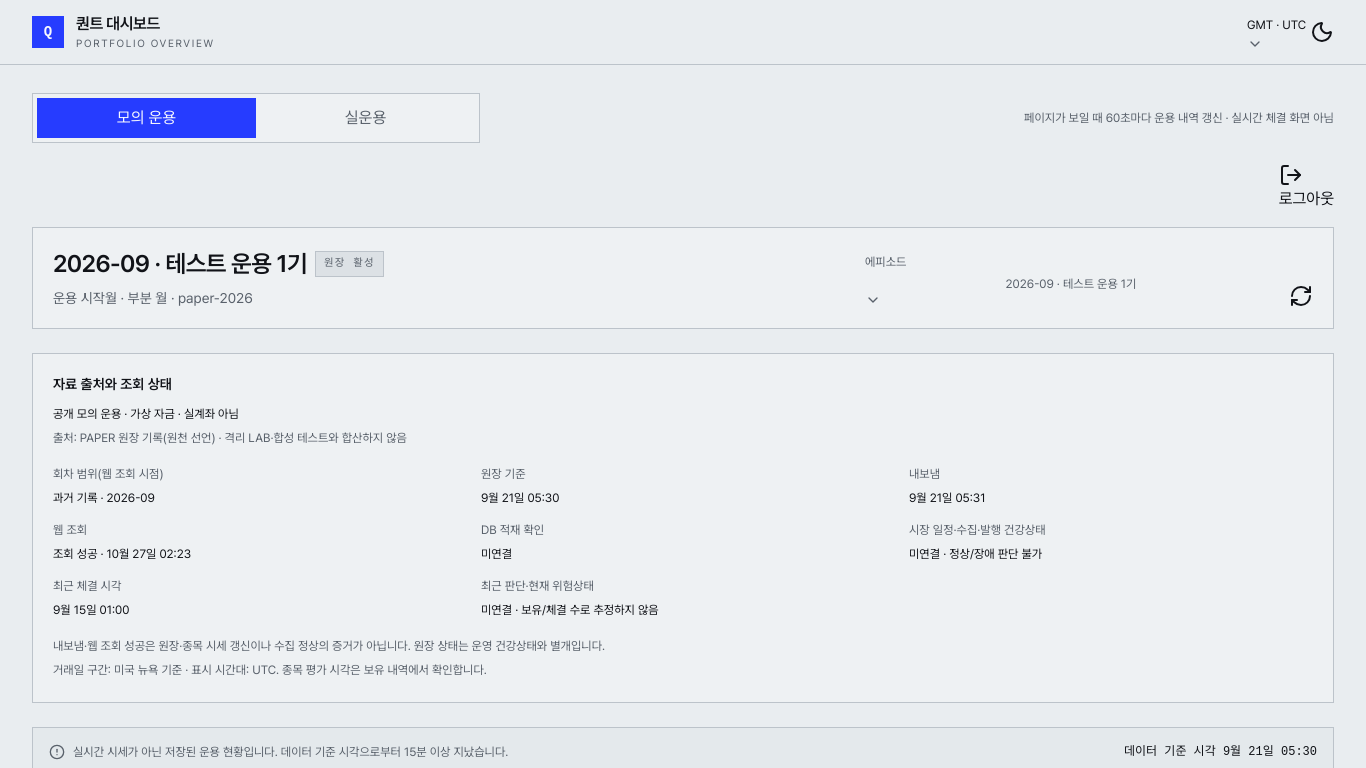
Test case: Quant dashboard app › preserves safe schema errors and mode-specific retry after a previous success
This screenshot has width=1366, height=768.
expect the heading "2026-09 · 테스트 운용 1기" is shown: met, box [53,248,307,280]
Click the tab "실운용".
click(366, 118)  # box [256,98,475,138]
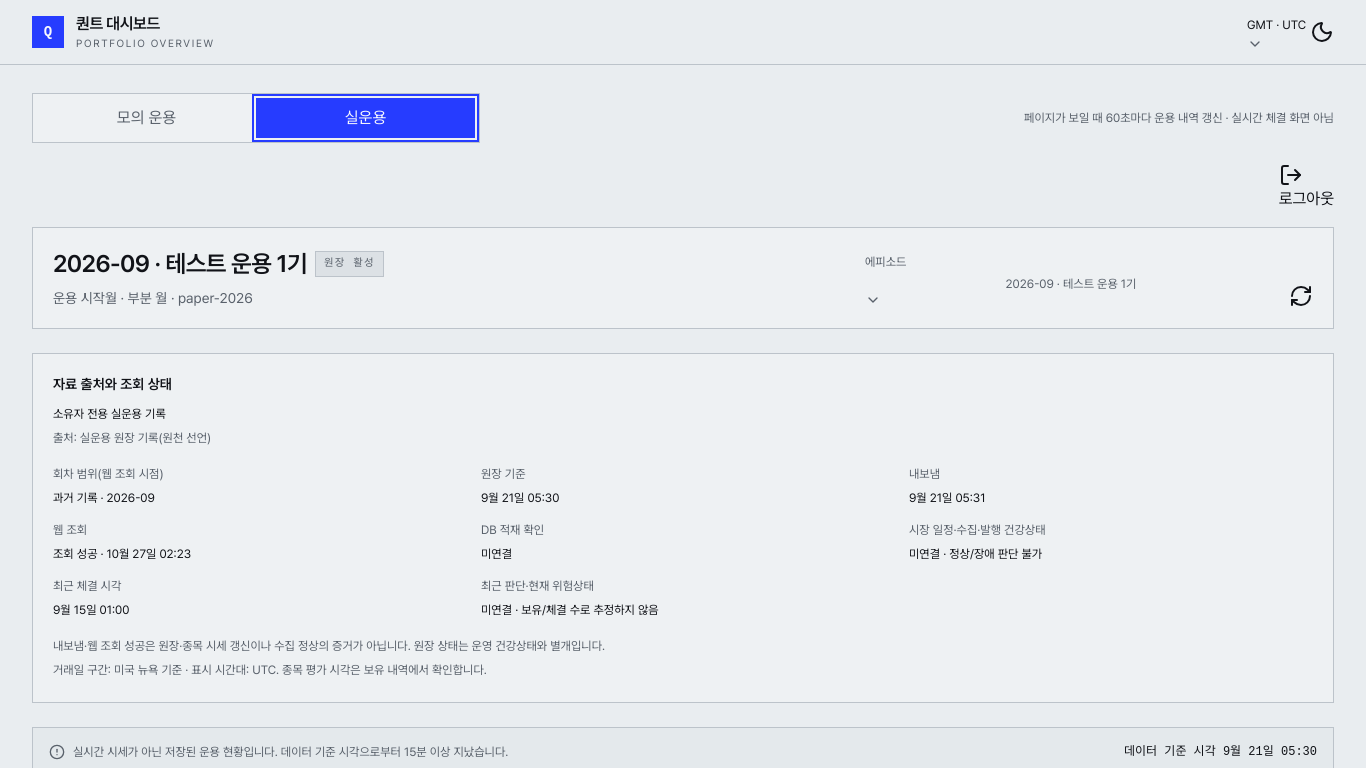
expect the heading "2026-09 · 테스트 운용 1기" is shown: met, box [53,248,307,280]
Click the button named "운용 내역 전체 새로고침".
click(1301, 296)  # box [1289,284,1313,308]
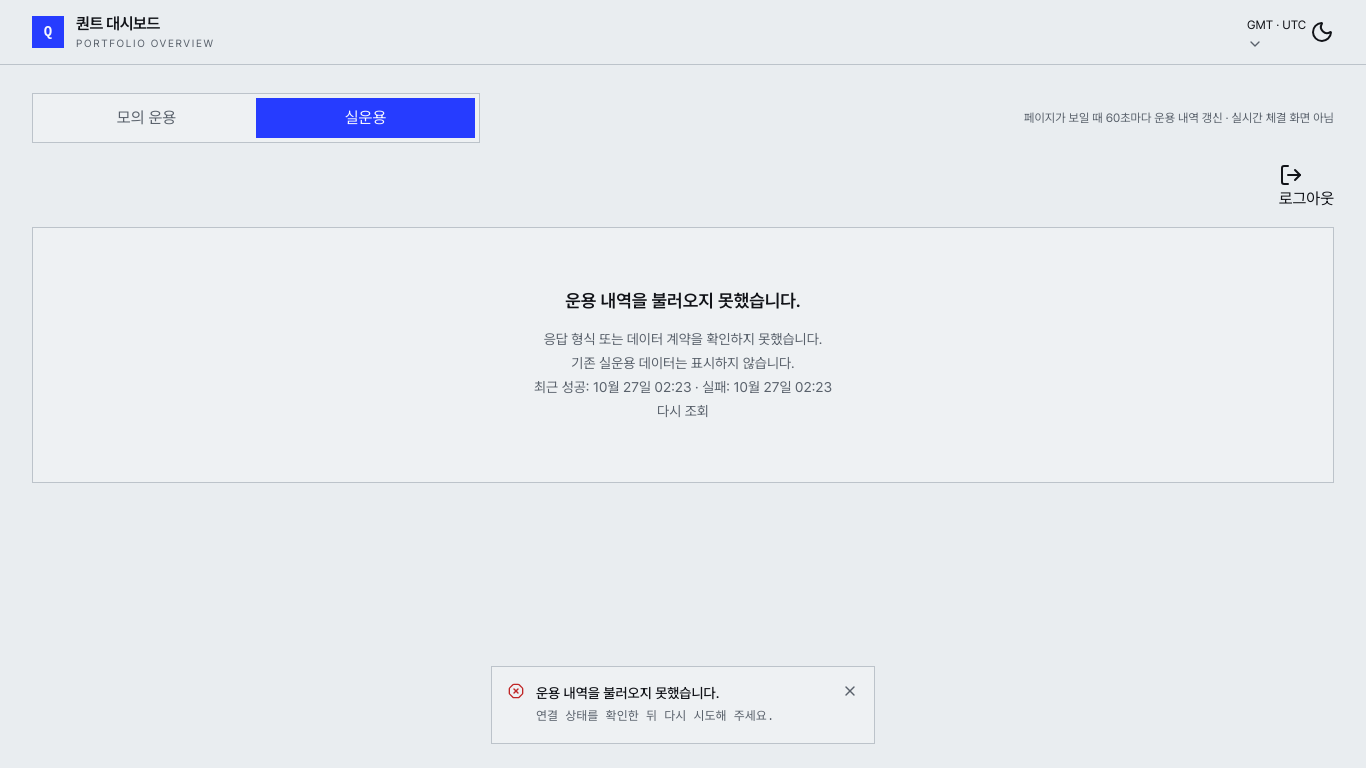
expect the heading "운용 내역을 불러오지 못했습니다." is shown: met, box [565,290,801,311]
expect the text "응답 형식 또는 데이터 계약을 확인하지 못했습니다." is shown: met, box [534,327,832,351]
expect the text "기존 실운용 데이터는 표시하지 않습니다." is shown: met, box [571,355,795,371]
Click the button "다시 조회".
click(683, 411)  # box [657,399,709,423]
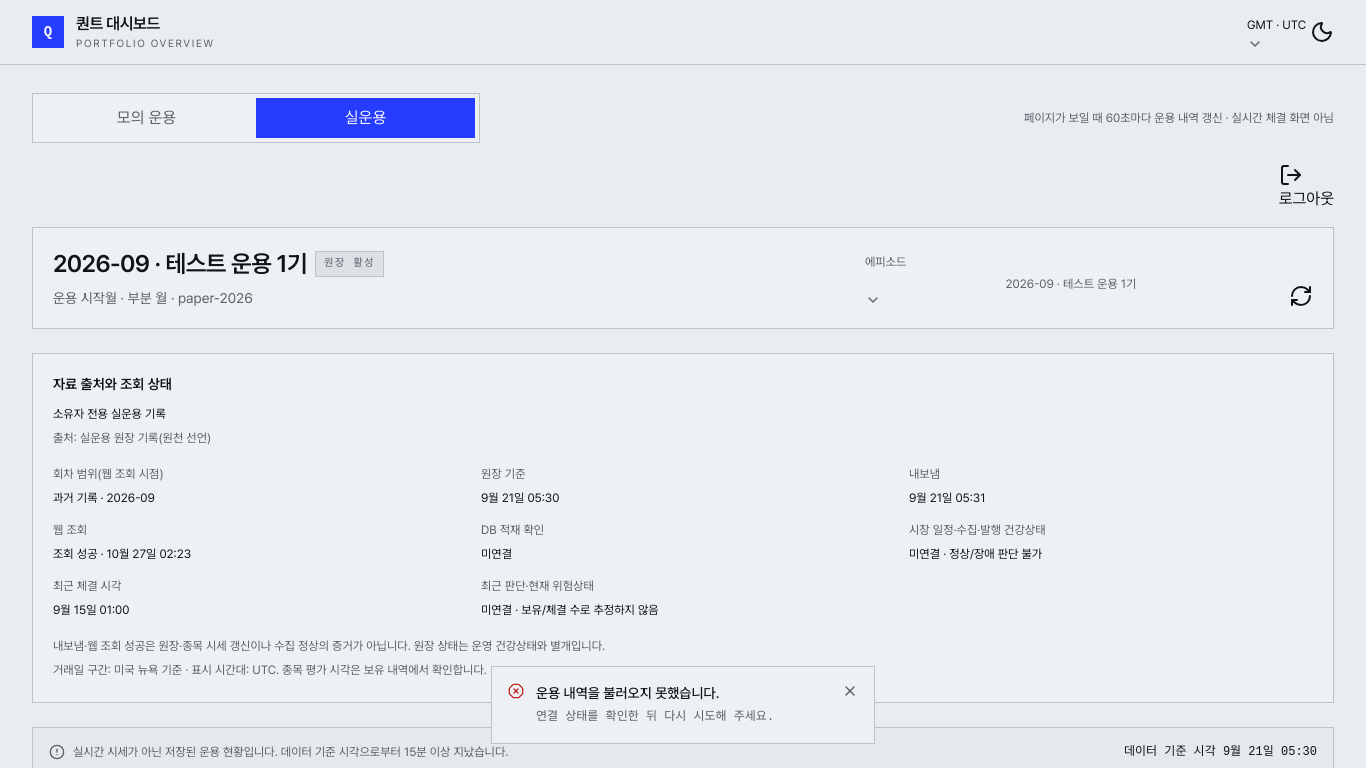
expect the heading "2026-09 · 테스트 운용 1기" is shown: met, box [53,248,307,280]
